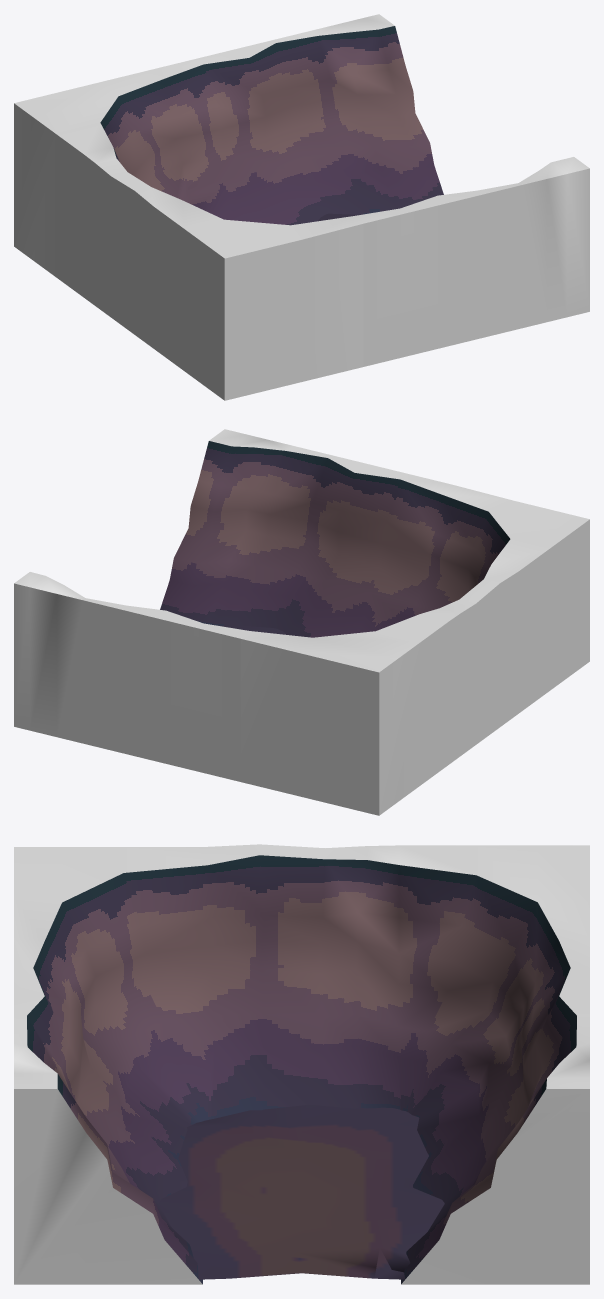
File: CaveClosed.fbx
3 renders of one model, top to bottom at view 1: azimuth 30°, elevation 25°; view 2: azimuth 150°, elevation 25°; view 3: azimuth 270°, elevation 25°, orthographic. The views are drawn at different scales.
Visible parts, largest first — view 1: WallClosed; view 2: WallClosed; view 3: WallClosed, FloorClosed.
Part boxes in pixels (x1,y1,x2,y2): WallClosed: (14,14,589,400); WallClosed: (14,429,589,815); WallClosed: (14,844,589,1284); FloorClosed: (159,1104,444,1279).
Bounding box in the file's own units: 200 × 75.73 × 200.
